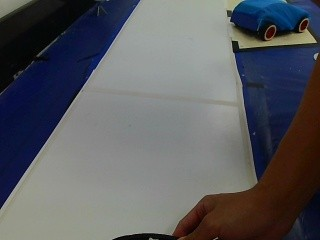car: (229, 0, 311, 46)
